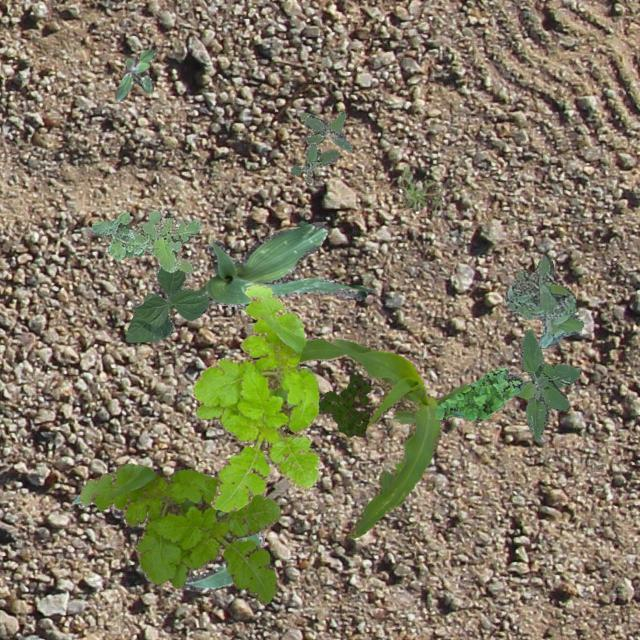crop: (296, 336, 472, 536), (68, 494, 264, 590), (196, 220, 372, 308), (124, 266, 208, 342)
weed: (78, 462, 280, 604), (192, 284, 318, 511), (508, 328, 580, 440), (503, 255, 582, 348), (90, 210, 200, 272), (434, 364, 520, 422), (290, 110, 352, 182), (316, 374, 371, 436), (114, 48, 154, 100), (398, 165, 440, 212)
